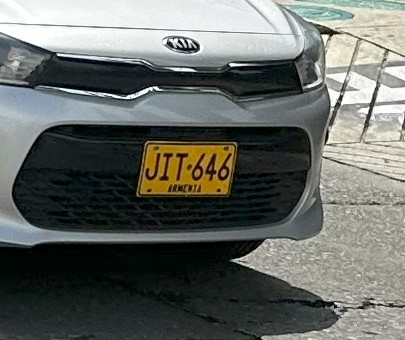number plate: (136, 141, 236, 196)
